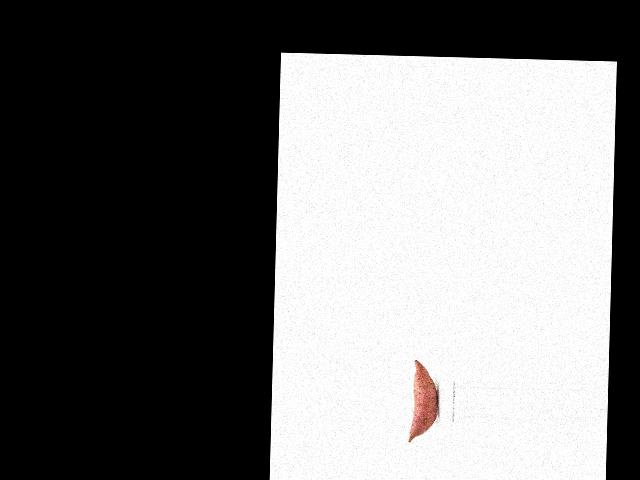sweet_potato: (404, 358, 439, 443)
